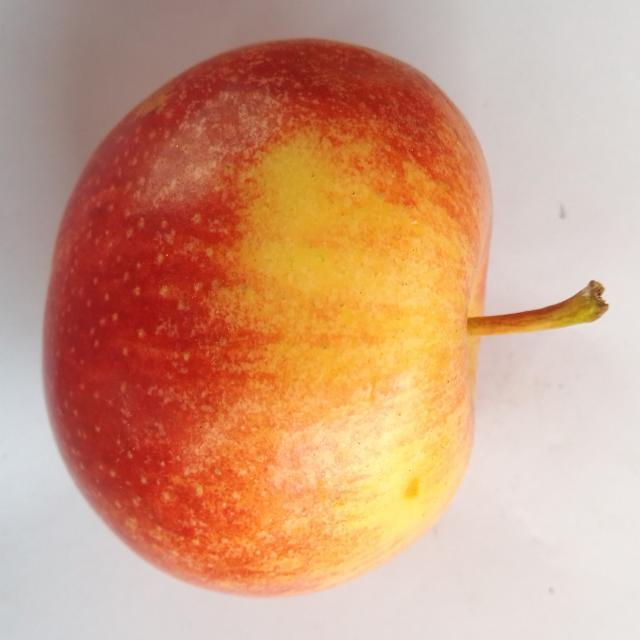Fresh Apple: (40, 32, 498, 603)
